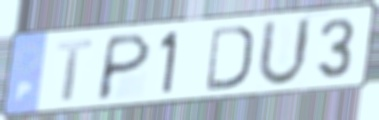1: (156, 29, 180, 96)
3: (313, 16, 359, 80)
D: (204, 22, 255, 93)
P: (93, 30, 155, 103)
T: (54, 37, 96, 104)
U: (254, 15, 314, 90)
